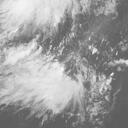cyclone: (16, 43, 74, 114)
